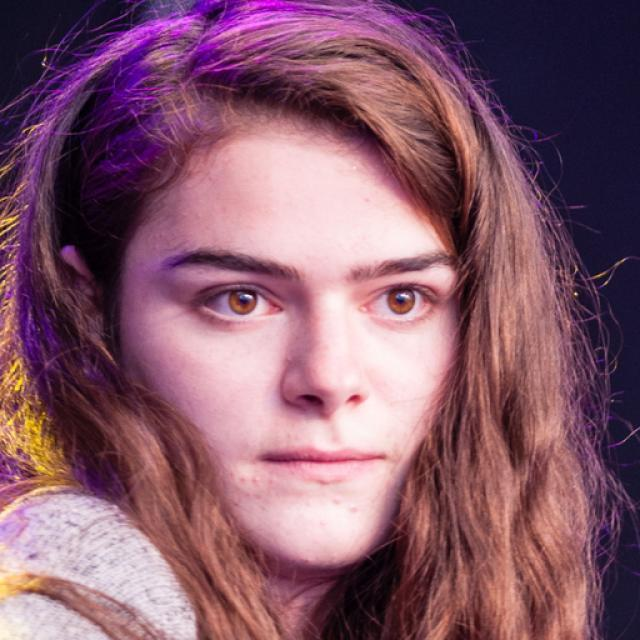neutral: (122, 120, 466, 570)
